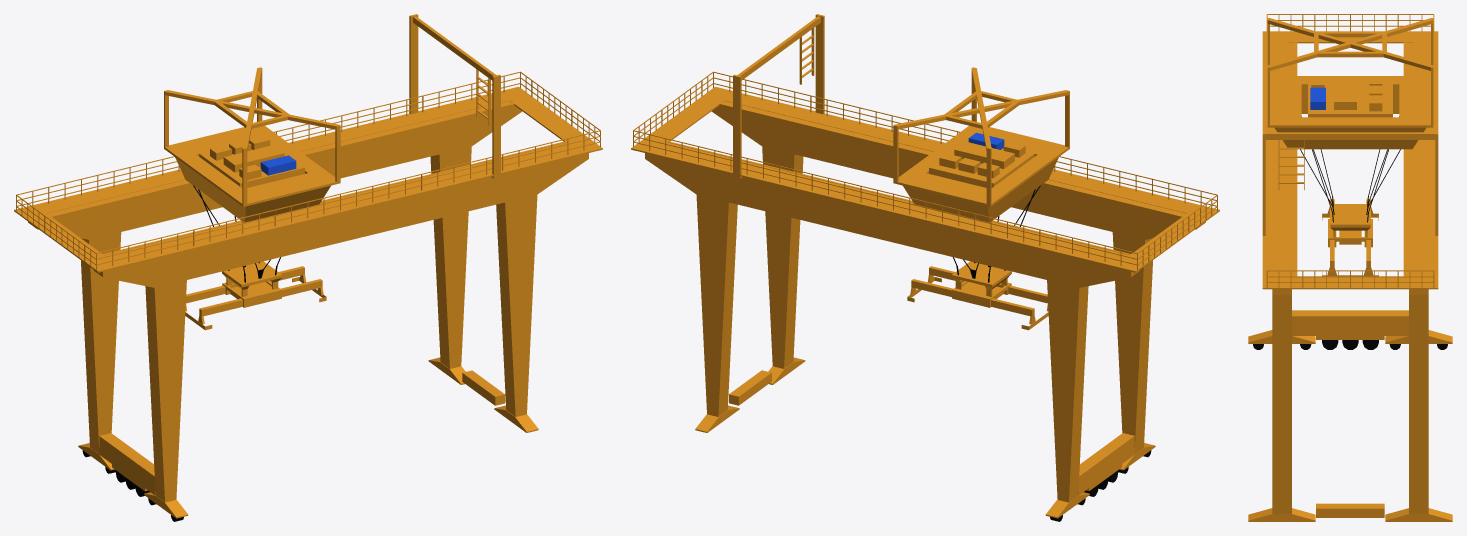
The model's file is 1、龙门吊.fbx.
The picture shows the model from 3 angles, left to right: view 1: azimuth 30°, elevation 25°; view 2: azimuth 150°, elevation 25°; view 3: azimuth 270°, elevation 25°; orthographic projection. The views are drawn at different scales.
Visible parts, largest first — view 1: 物件_153, 物件_155, 物件_163, 物件_156, 物件_154, 物件_147; view 2: 物件_153, 物件_155, 物件_163, 物件_156, 物件_154, 物件_147; view 3: 物件_153, 物件_155, 物件_163, 物件_154, 物件_156, 物件_147, 物件_148, 物件_149, 物件_151, 物件_152, 物件_164, 物件_150.
Boxes of the visible parts, box(x1,y1,x2,y2) form: 物件_153: box(14, 86, 602, 502); 物件_155: box(16, 14, 600, 269); 物件_163: box(164, 67, 340, 222); 物件_156: box(185, 261, 326, 330); 物件_154: box(99, 433, 155, 495); 物件_147: box(462, 370, 505, 405); 物件_153: box(631, 86, 1219, 502); 物件_155: box(633, 14, 1217, 269); 物件_163: box(893, 67, 1069, 222); 物件_156: box(907, 261, 1048, 330); 物件_154: box(1078, 433, 1134, 495); 物件_147: box(729, 370, 771, 405); 物件_153: box(1262, 31, 1438, 513); 物件_155: box(1262, 14, 1438, 287); 物件_163: box(1267, 18, 1433, 149); 物件_154: box(1292, 310, 1408, 335); 物件_156: box(1322, 199, 1378, 276); 物件_147: box(1316, 503, 1384, 517); 物件_148: box(1248, 508, 1315, 521); 物件_149: box(1385, 508, 1452, 521); 物件_151: box(1248, 330, 1315, 343); 物件_152: box(1385, 330, 1452, 343); 物件_164: box(1310, 87, 1325, 109); 物件_150: box(1316, 336, 1384, 339).
Size of the model in its own units: 3835 by 1290 by 2641.
